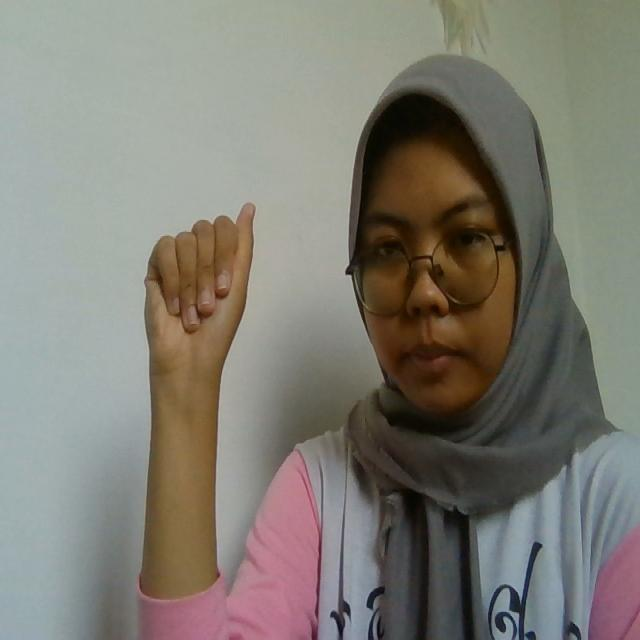A: (144, 200, 258, 370)
